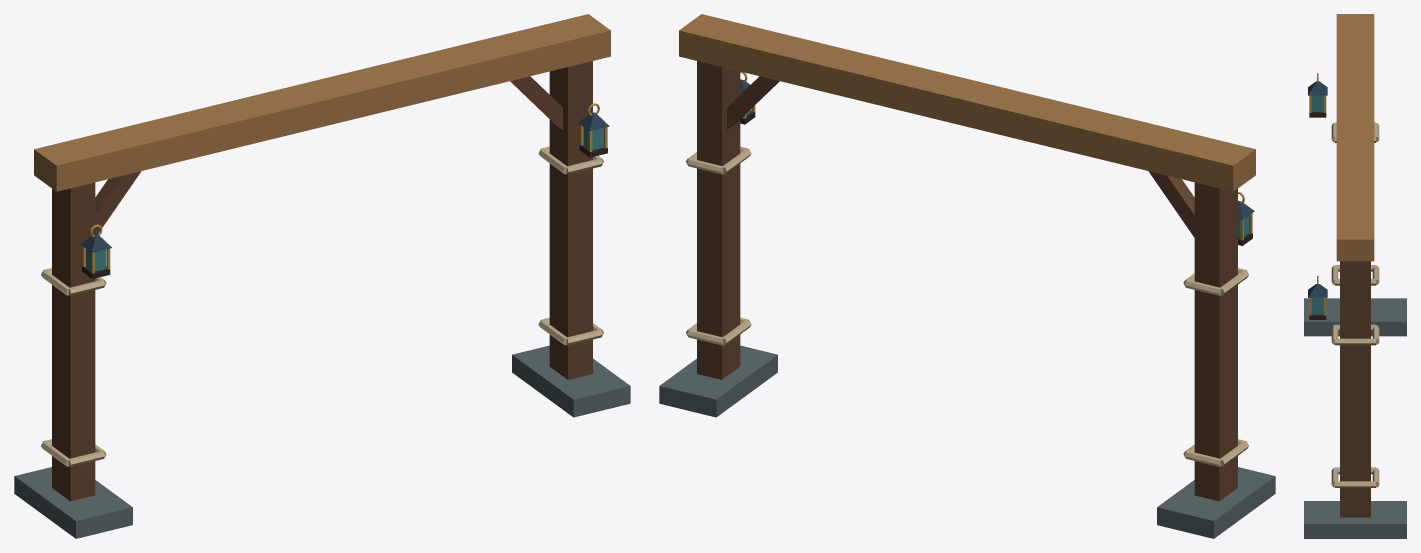
File: PirateCove_CargoSwingFrame_Showcase.glb
The picture shows the model from 3 angles, left to right: view 1: azimuth 30°, elevation 25°; view 2: azimuth 150°, elevation 25°; view 3: azimuth 270°, elevation 25°; orthographic projection. The views are drawn at different scales.
Visible parts, largest first — view 1: PirateCove_CargoSwingFrame_Showcase; view 2: PirateCove_CargoSwingFrame_Showcase; view 3: PirateCove_CargoSwingFrame_Showcase.
Part boxes in pixels (box(x1,y1,x2,y2)): PirateCove_CargoSwingFrame_Showcase: box(14, 14, 630, 538); PirateCove_CargoSwingFrame_Showcase: box(659, 14, 1275, 538); PirateCove_CargoSwingFrame_Showcase: box(1304, 14, 1406, 538).
Bounding box in the file's own units: 7.8 × 4.83 × 1.5.
